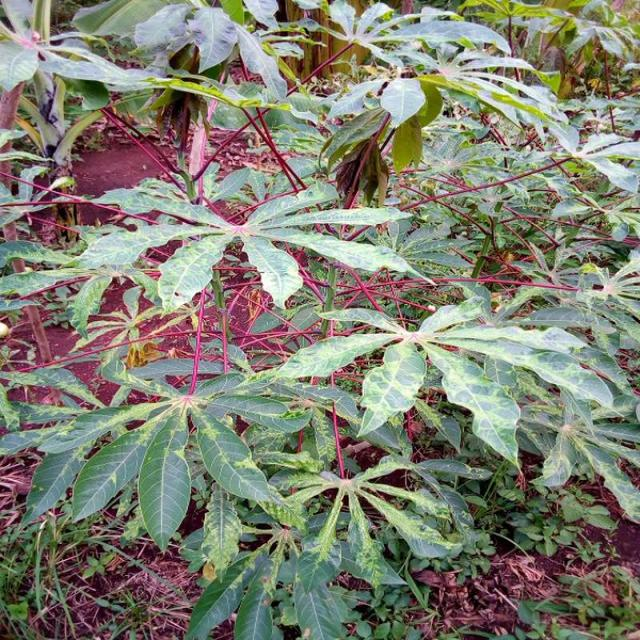cassava leaf: (0, 1, 638, 637), (137, 403, 191, 552)
